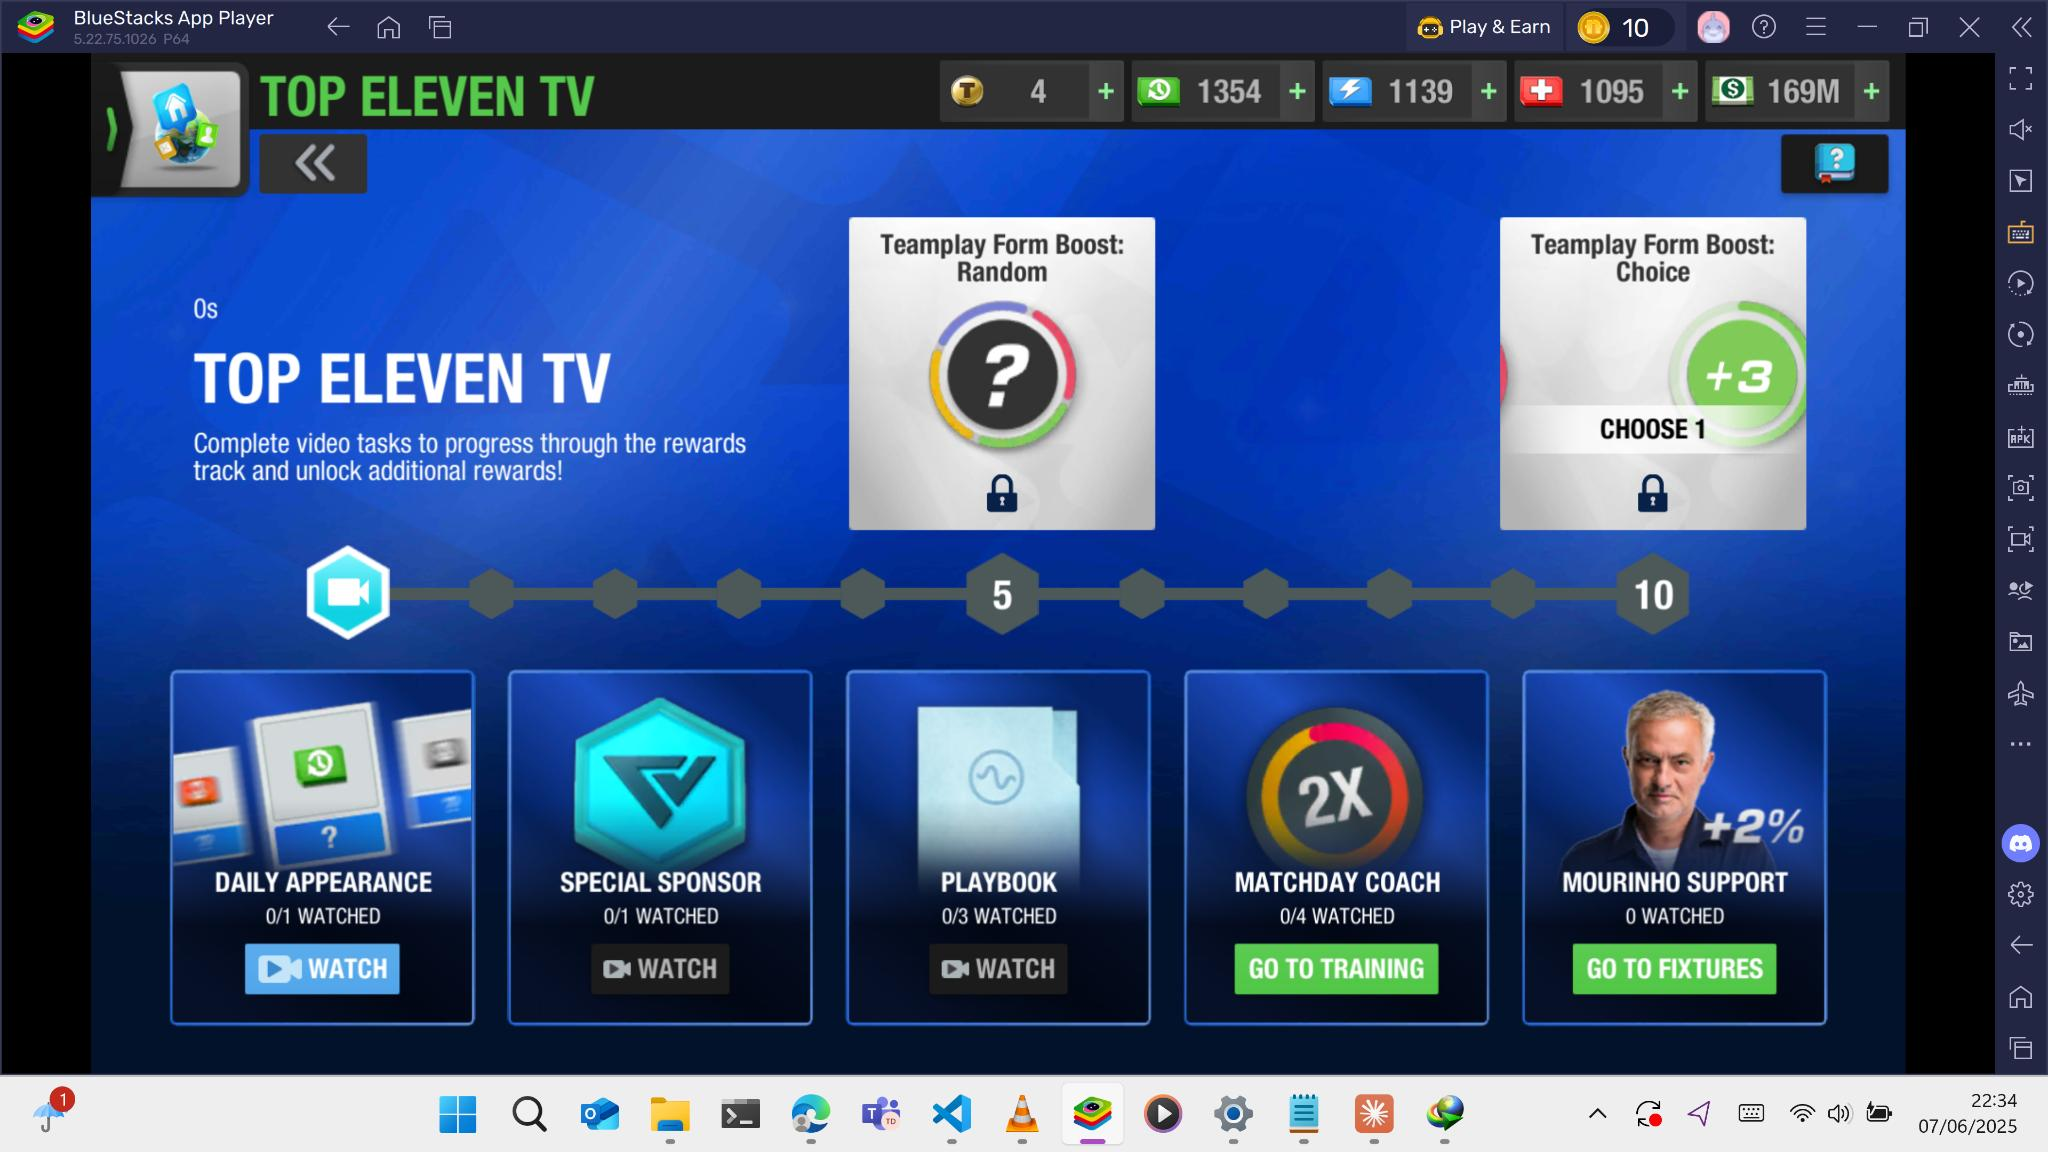cash_pack: (1712, 76, 1754, 107)
medic_pack: (1519, 76, 1564, 108)
morale_pack: (1329, 77, 1373, 108)
rest_pack: (1137, 77, 1182, 108)
watch_ads_general: (239, 947, 392, 999)
windows_button: (439, 1096, 477, 1132)
